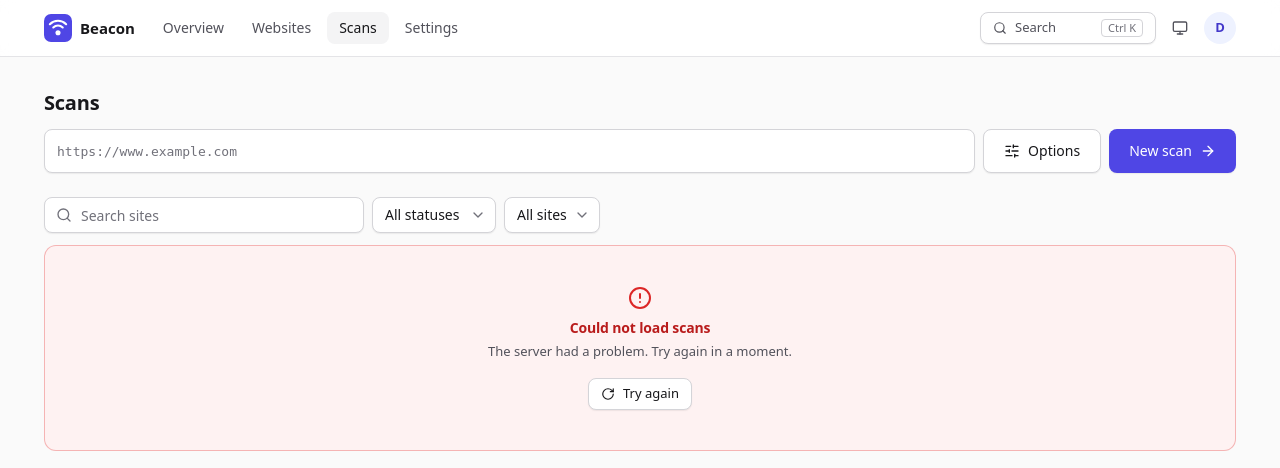
Test: dashboard scan list › explains a failure and lets you retry
expect the message shows "Could not load scans": met, box [570,318,710,337]
expect the message shows "The server had a problem.": met, box [488,342,792,360]
Click the button "Try again" at (640, 394), box [588,378,692,410]
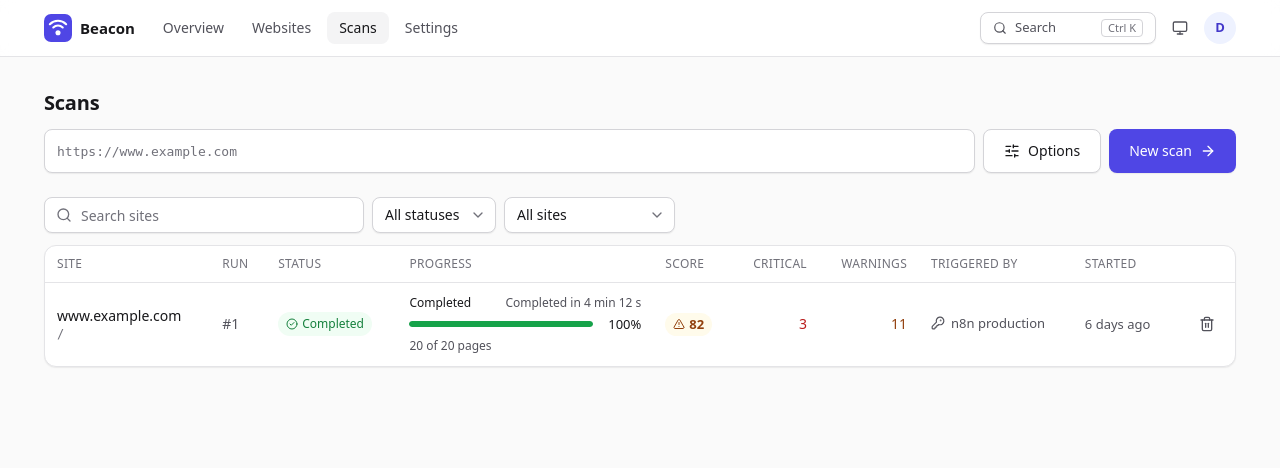
expect the link "www.example.com" is shown: met, box [57,306,198,326]
